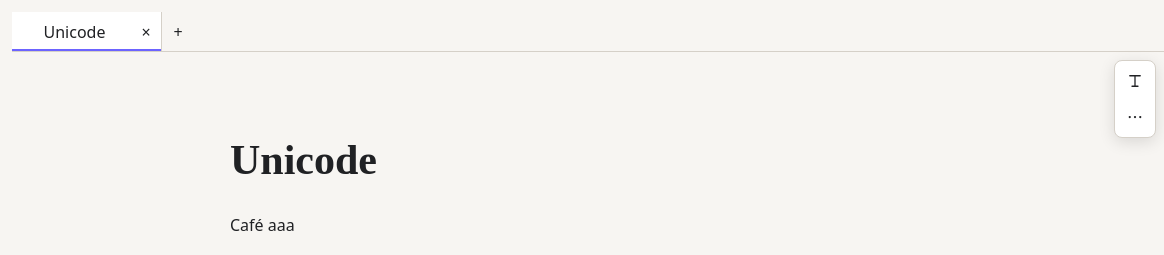
spec 0004 in-document search › AC53 AC55 AC63 AC69: empty, normalized Unicode, non-overlap, and no-active-editor states remain deterministic
Type keys "{Control>}f{/Control}"
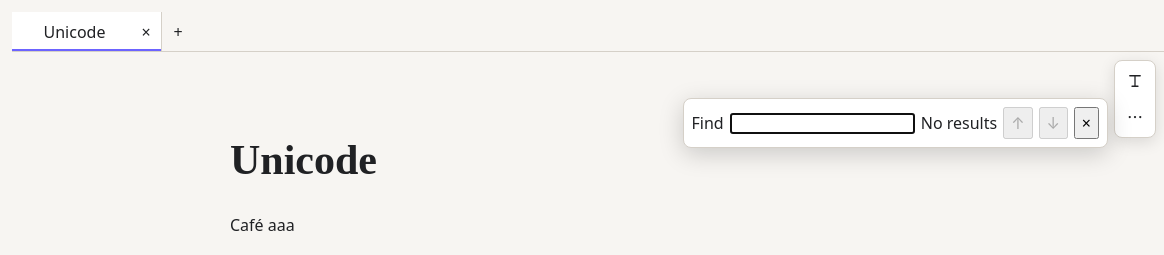
Check: the button with test id "search-next" is disabled, box 1038,107 -> 1068,139
In the search field with test id "search-input": point(822, 123) 730,112 -> 915,134, type "CAFÉ"
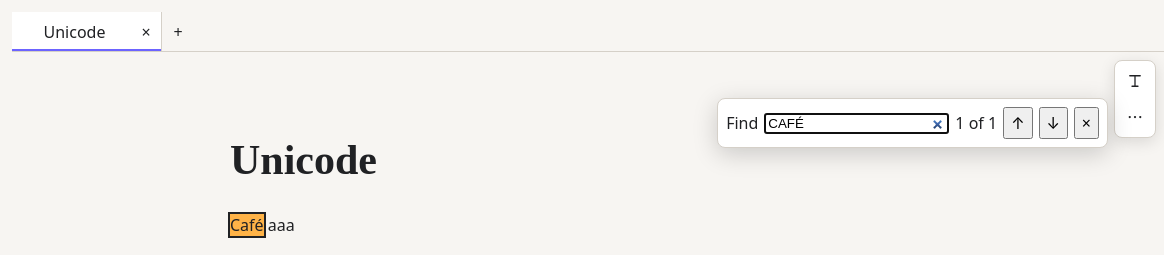
Check: the number of text boxes with class "search-match" is 1, box 230,214 -> 264,236
